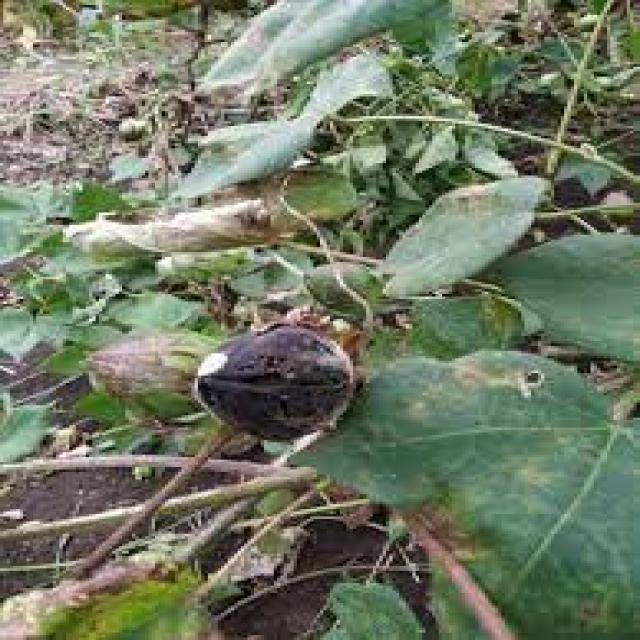Cotton Ball Rot: (188, 319, 363, 445)
Healthy: (284, 346, 637, 637)
